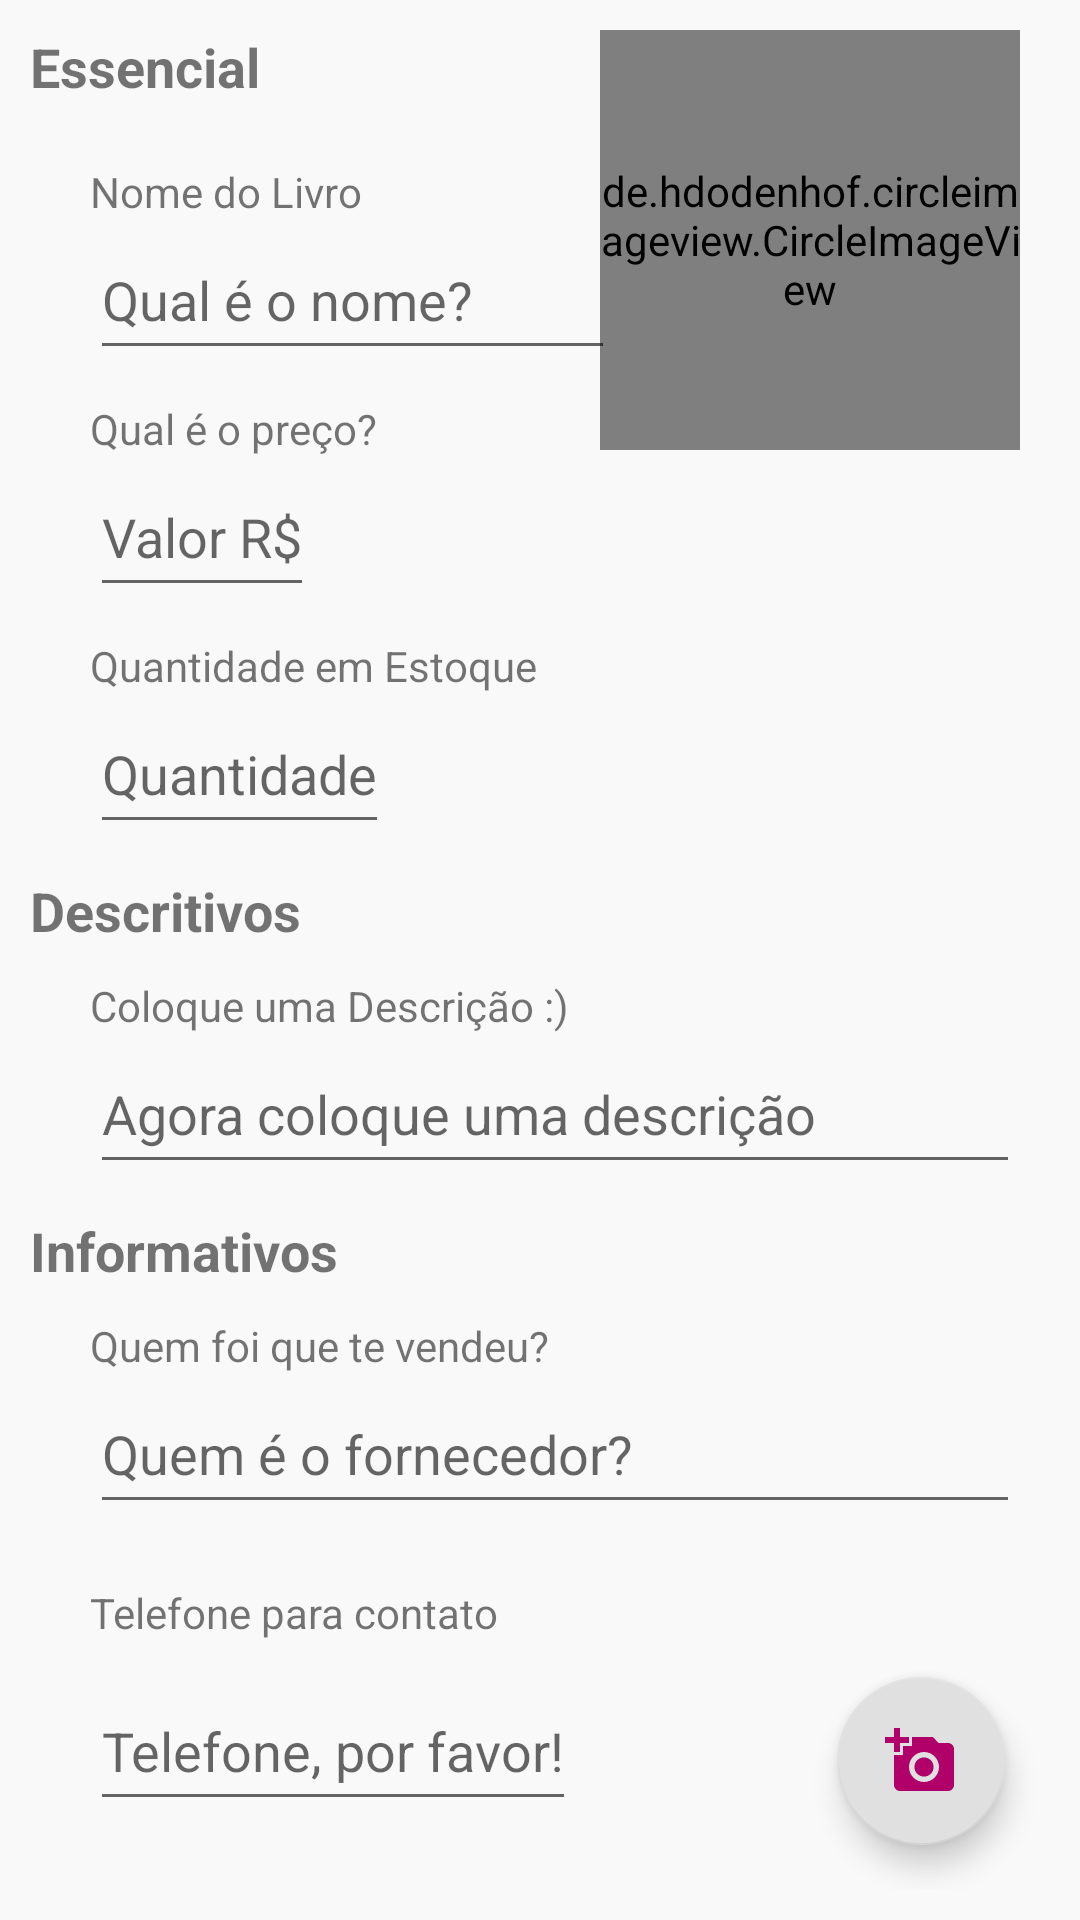

Icon click points for this 1080px×1920px phone screenshot, format (x=x, y=y):
add photo: (x=921, y=1762)
